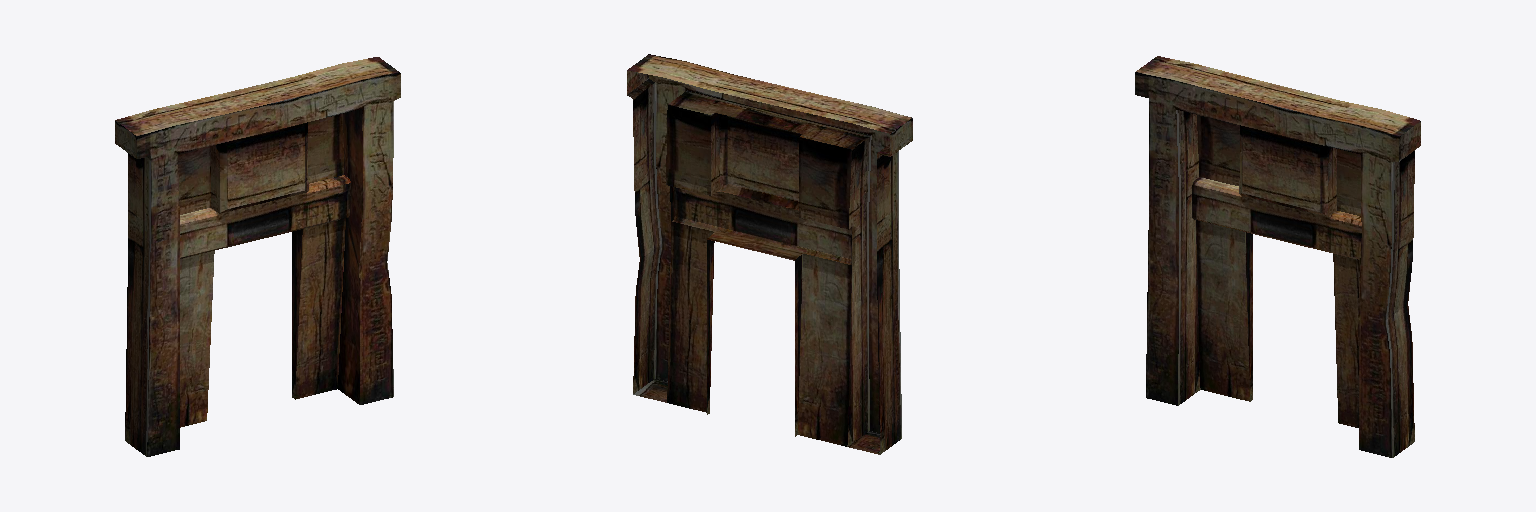
The picture shows the model from 3 angles: view 1: azimuth 30°, elevation 25°; view 2: azimuth 150°, elevation 25°; view 3: azimuth 330°, elevation 25°; orthographic projection.
Parts seen in each view (by area): view 1: Doorway; view 2: Doorway; view 3: Doorway.
Part boxes in pixels (x1,y1,x2,y2): Doorway: (115,57,400,456); Doorway: (627,54,912,454); Doorway: (1135,56,1420,457).
Size of the model in its own units: 12.22 by 14.39 by 2.05.
1 materials, 1 textured.